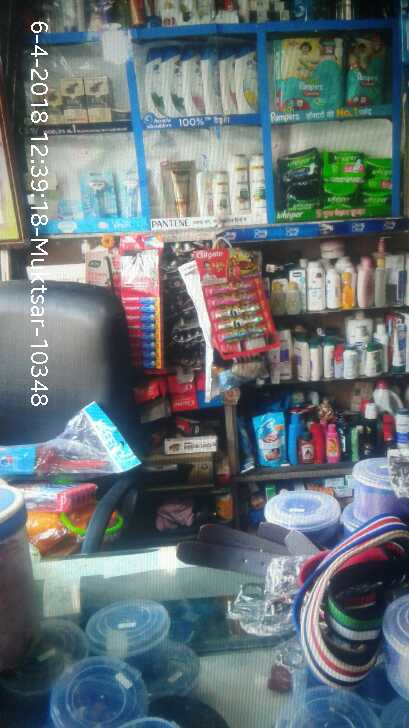venus: (81, 172, 118, 215), (119, 170, 138, 215), (58, 198, 79, 219)
